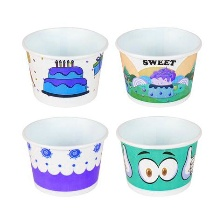paper_cup: (110, 20, 206, 112), (17, 20, 108, 111), (111, 111, 205, 199), (17, 112, 110, 200)
